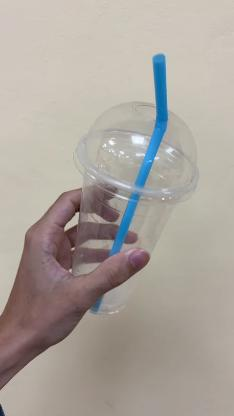Plastic Cup: (72, 102, 200, 314)
